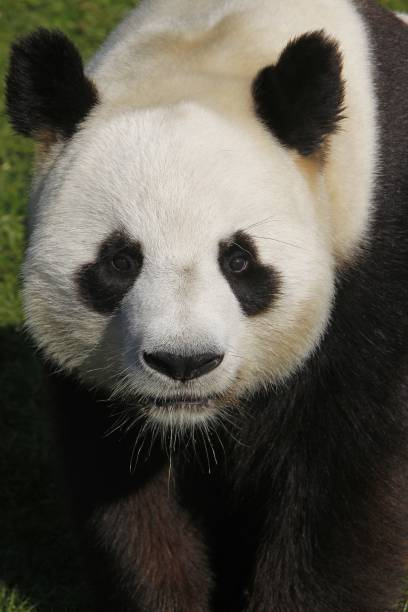panda: (3, 21, 392, 465)
